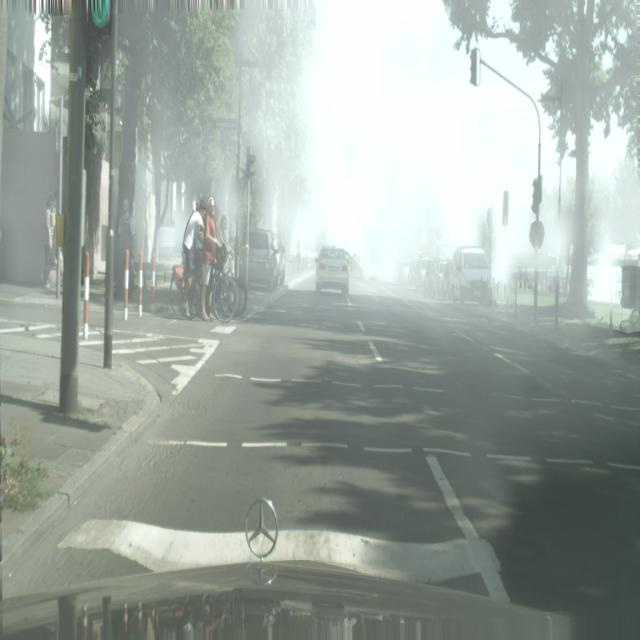car: (171, 253, 238, 321)
motorcycle: (364, 226, 388, 280)
person: (199, 198, 219, 322), (182, 197, 205, 296), (117, 198, 137, 298), (42, 194, 57, 289)
truck: (240, 229, 284, 291), (450, 246, 492, 307), (315, 246, 350, 298), (429, 259, 448, 297), (414, 255, 432, 291), (440, 261, 452, 299)
